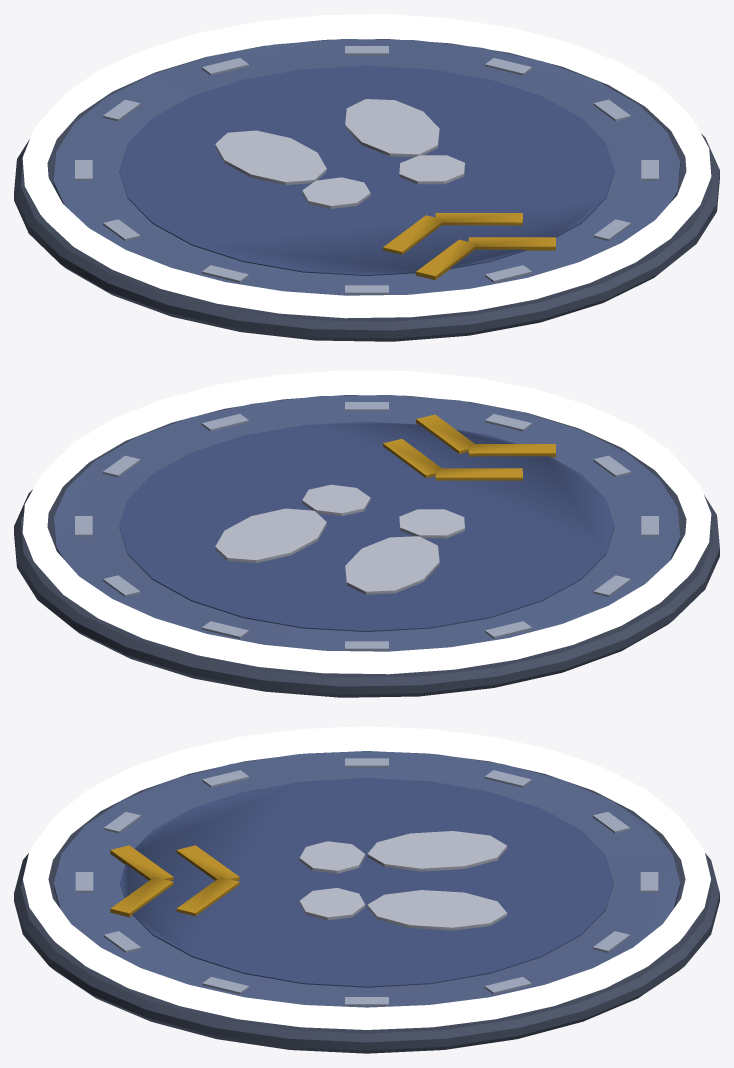
File: o_pad.glb
The picture shows the model from 3 angles, top to bottom: view 1: azimuth 30°, elevation 25°; view 2: azimuth 150°, elevation 25°; view 3: azimuth 270°, elevation 25°; orthographic projection.
Parts seen in each view (by area): view 1: body, ring_glow; view 2: body, ring_glow; view 3: body, ring_glow.
Boxes of the visible parts, x1,y1,x2,y2 form: body: [14, 39, 719, 341]; ring_glow: [22, 14, 711, 318]; body: [14, 395, 719, 697]; ring_glow: [22, 370, 711, 674]; body: [14, 751, 719, 1053]; ring_glow: [23, 726, 710, 1029].
Size of the model in its own units: 3.2 by 0.1971 by 3.2.
